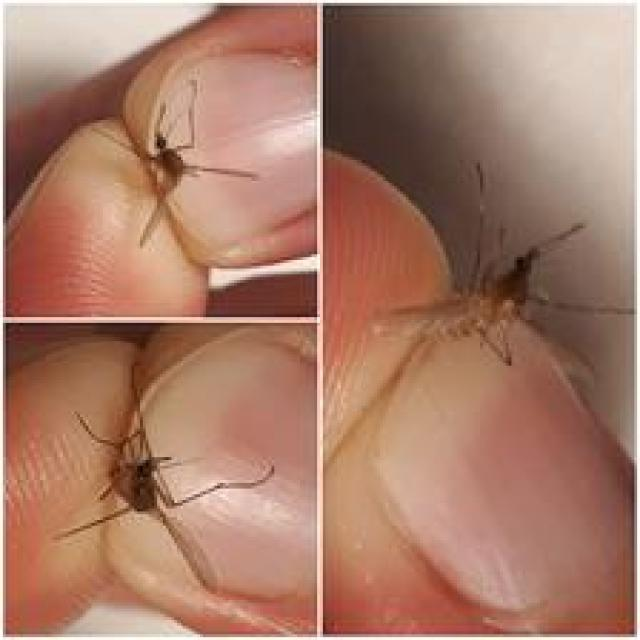Culex: (323, 153, 634, 630)
